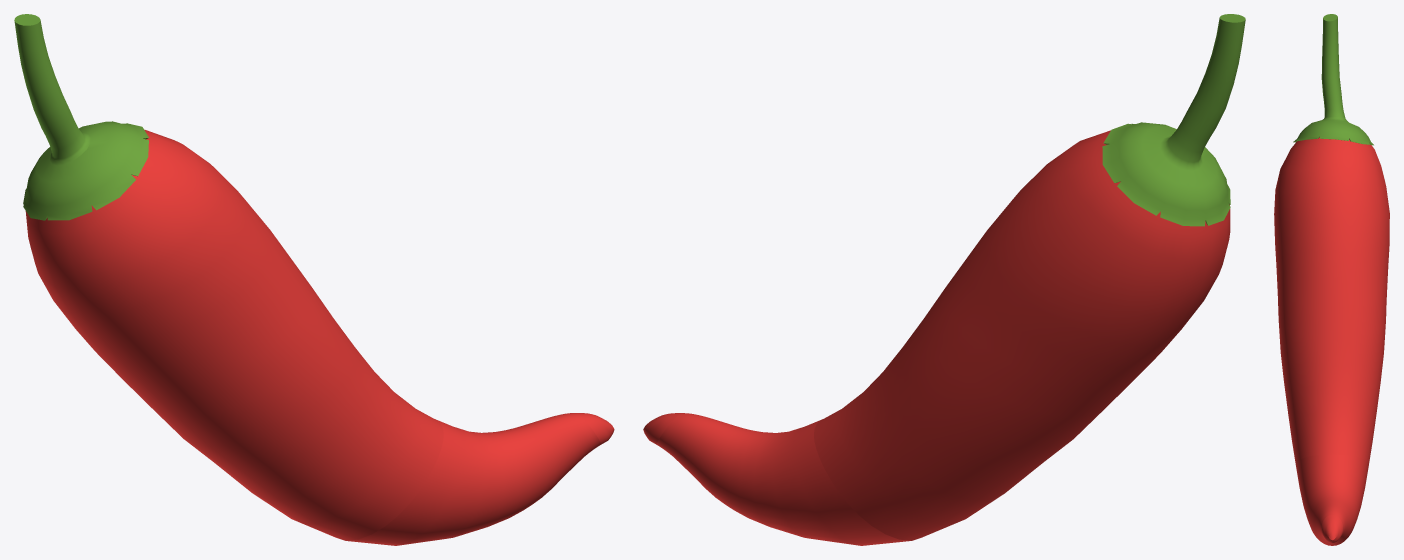
The model's file is hot_pepper.gltf.
The picture shows the model from 3 angles, left to right: view 1: azimuth 30°, elevation 25°; view 2: azimuth 150°, elevation 25°; view 3: azimuth 270°, elevation 25°; orthographic projection. The views are drawn at different scales.
Parts seen in each view (by area): view 1: Circle.2198; view 2: Circle.2198; view 3: Circle.2198.
Part boxes in pixels (box(x1,y1,x2,y2)): Circle.2198: box(14, 14, 614, 545); Circle.2198: box(643, 14, 1245, 545); Circle.2198: box(1274, 14, 1389, 545).
Bounding box in the file's own units: 2.12 × 2.09 × 0.5691.
1 material, 1 textured.
